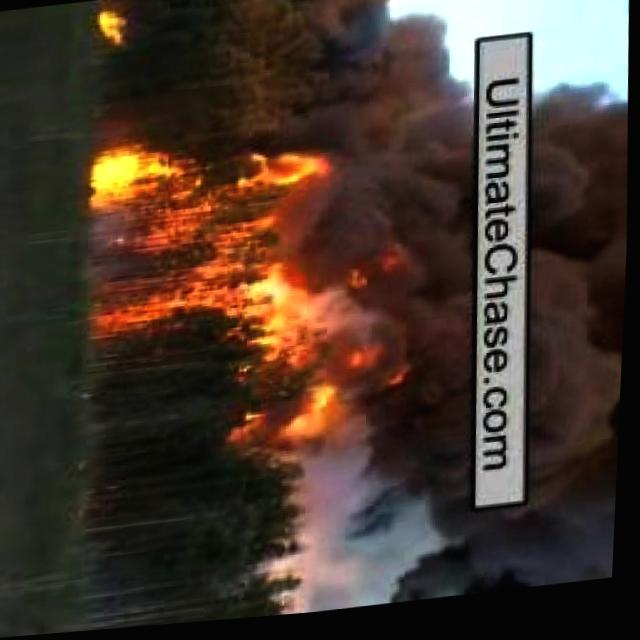helmet: (384, 0, 502, 610), (81, 124, 375, 352), (516, 78, 636, 594), (230, 345, 415, 466), (96, 9, 130, 54)
